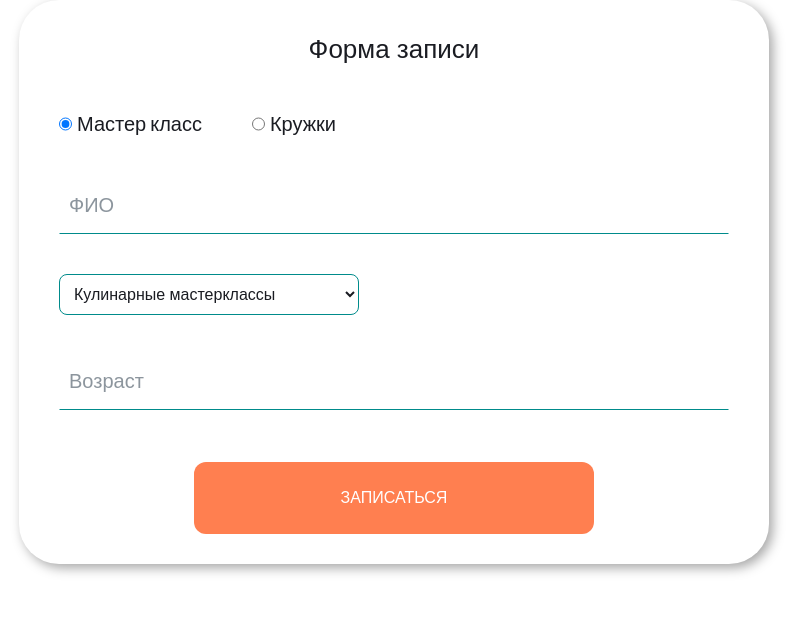
Test: Компонент Form › Должен показать ошибку при некорректном заполнении поля возраст
The image size is (797, 636).
Type "Иванов Иван Иванович" into the field labelled "ФИО".
click(394, 212); type("Иванов Иван Иванович")  # box [59,190,729,234]
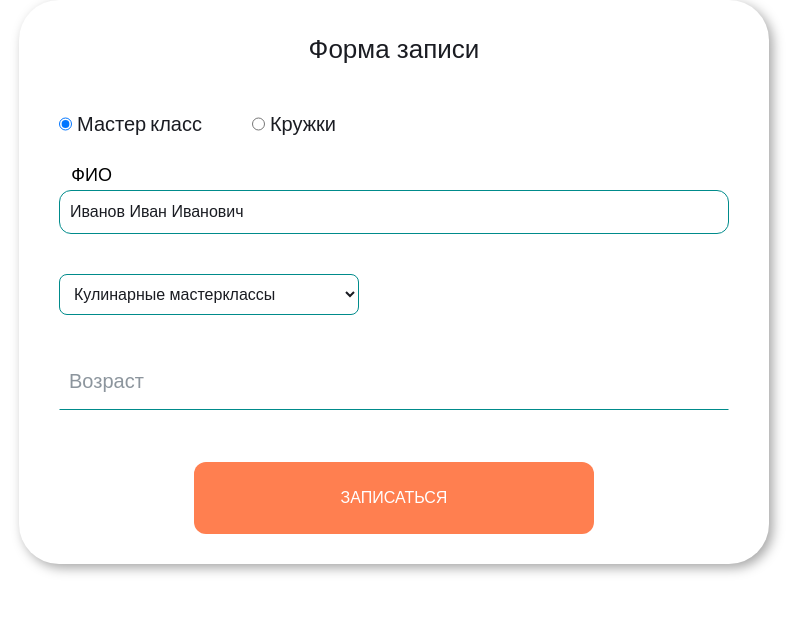
Type "150" into the number field labelled "Возраст".
click(394, 388); type("150")  # box [59,366,729,410]
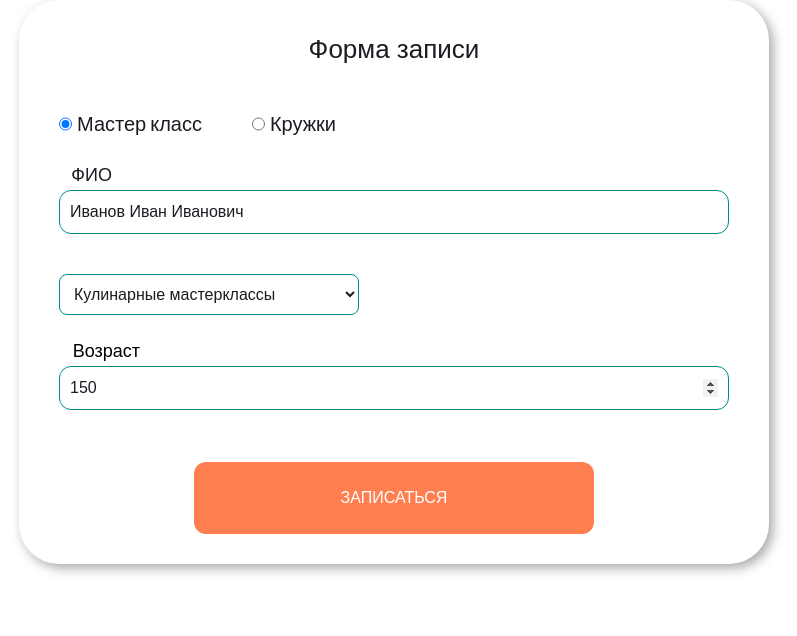
Click the button "записаться".
click(394, 498)  # box [194,462,594,534]
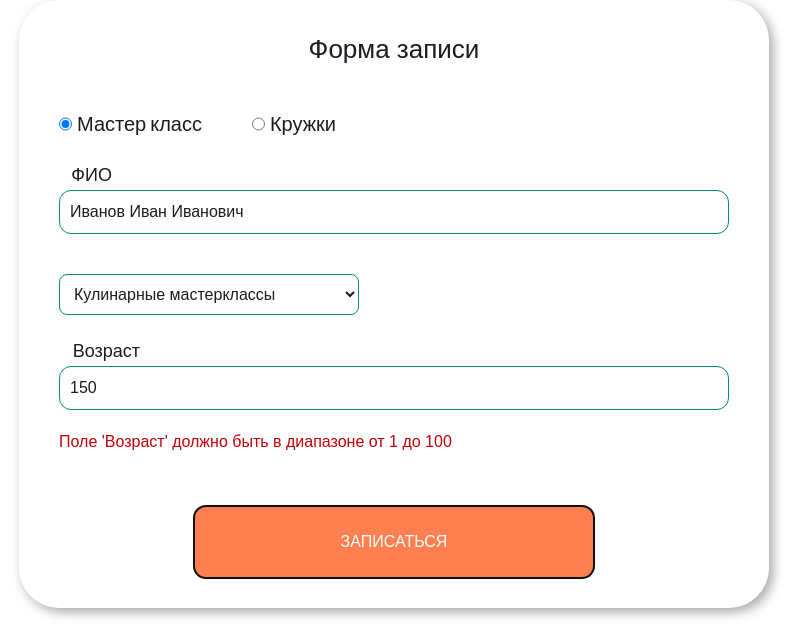
Expected: the text "Поле 'Возраст' должно быть в диапазоне от 1 до 100" is shown, [59,433,452,450]
